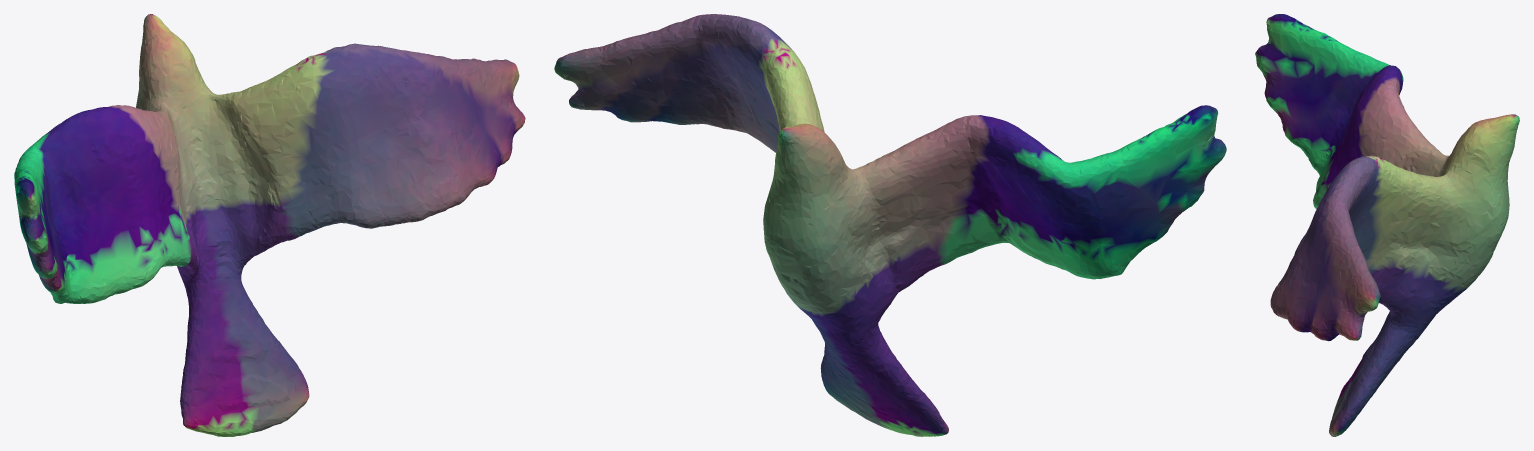
File: bird1-1.off.obj
3 renders of one model, left to right at view 1: azimuth 30°, elevation 25°; view 2: azimuth 150°, elevation 25°; view 3: azimuth 270°, elevation 25°, orthographic. The views are drawn at different scales.
Bounding box in the file's own units: 1.66 × 1.01 × 0.7632.
